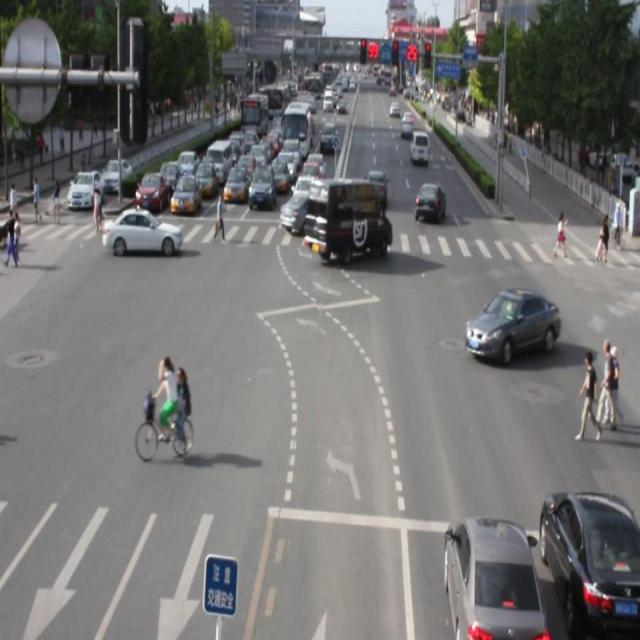car: (535, 493, 640, 640), (442, 516, 541, 640), (464, 286, 559, 364), (103, 205, 182, 258), (280, 193, 323, 234)
truck: (306, 178, 392, 260)
